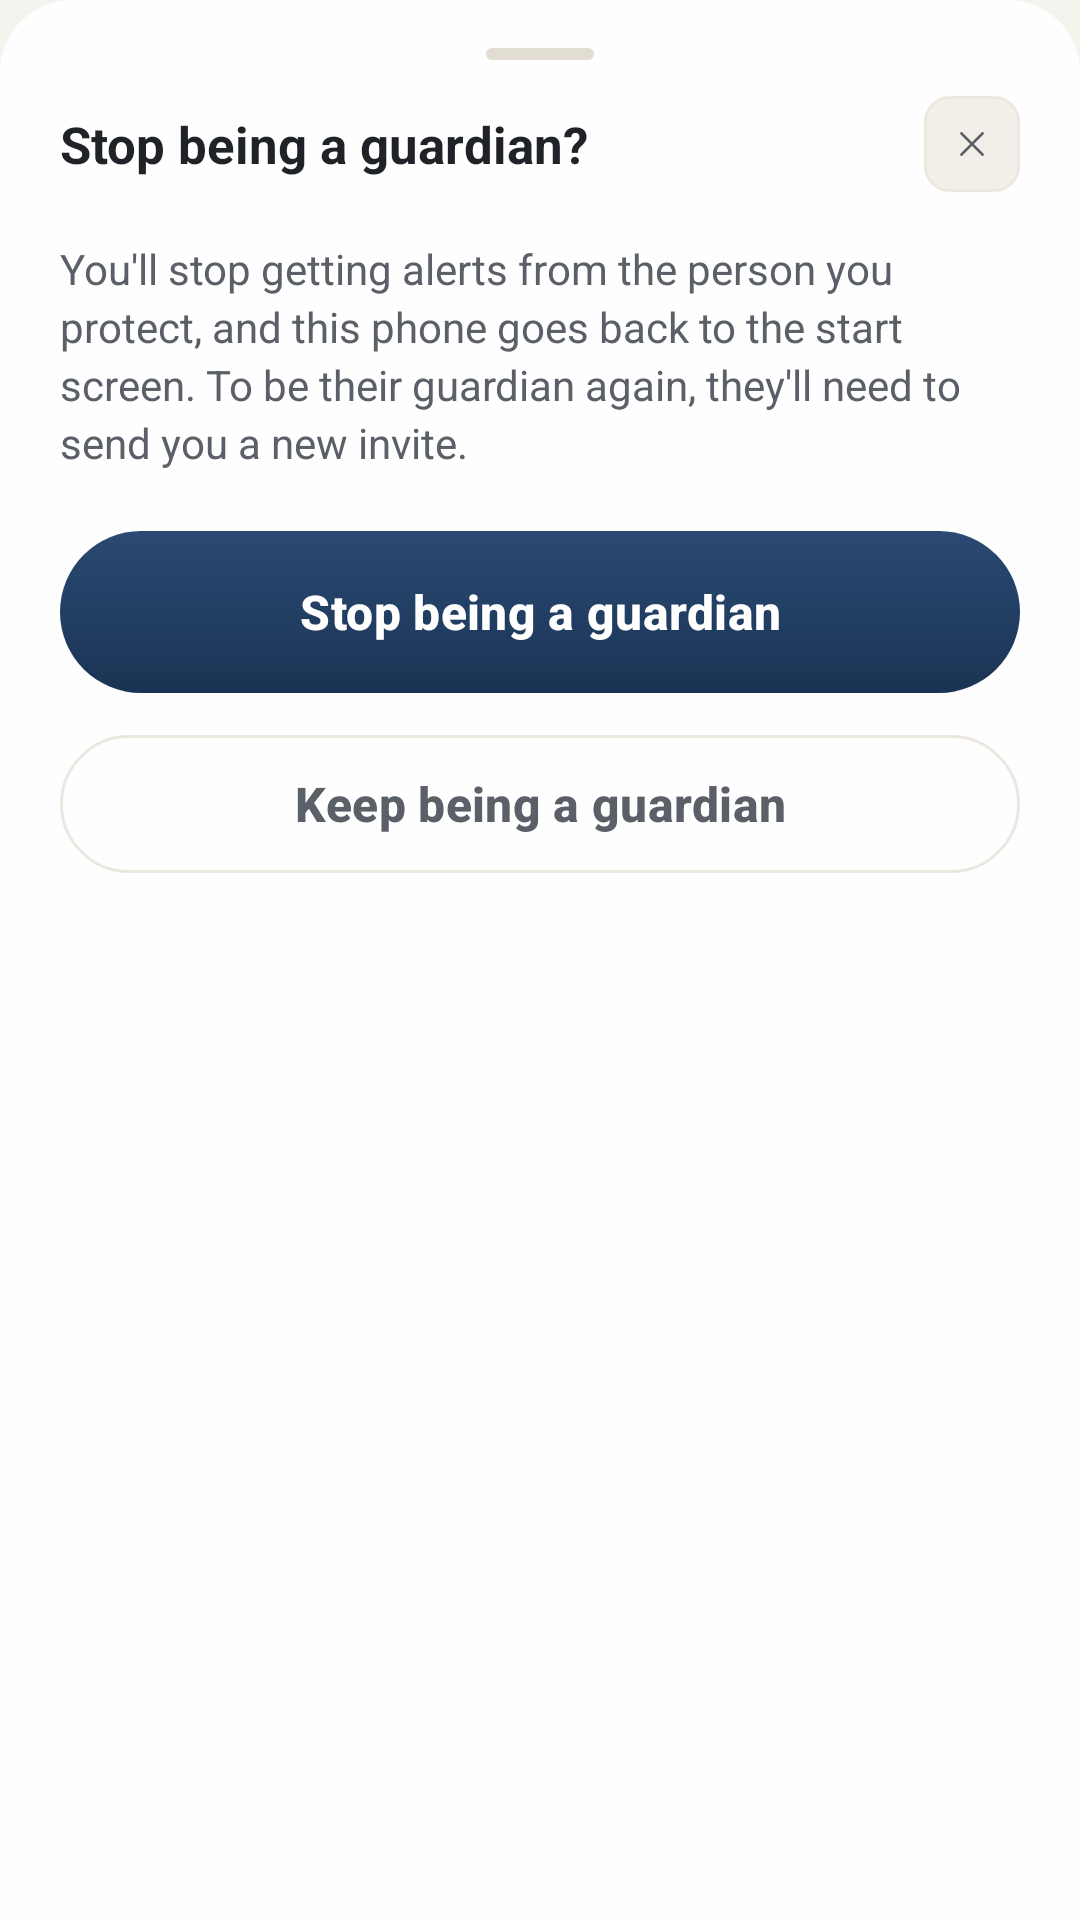

Icon bounding boxes for this 1080×1920 phone screenshot, format (x1, y1, x2, y2):
Close: (924, 96, 1020, 192)
